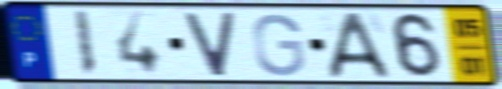4: (117, 11, 167, 78)
6: (389, 10, 446, 81)
A: (326, 10, 394, 81)
G: (250, 11, 308, 78)
I: (71, 9, 99, 78)
V: (181, 10, 239, 79)
